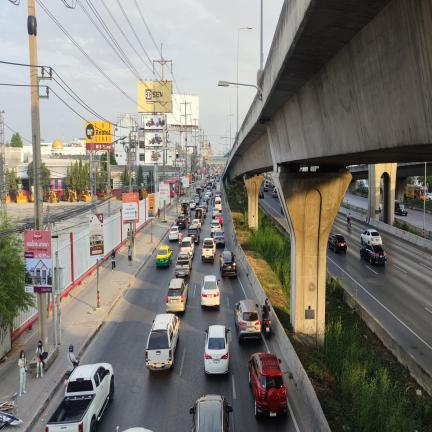car: (249, 353, 288, 418), (145, 313, 180, 370), (189, 394, 232, 432), (204, 325, 230, 374), (234, 299, 261, 344), (166, 279, 188, 312), (201, 275, 220, 307), (360, 244, 386, 265), (220, 251, 237, 277), (328, 234, 347, 253), (360, 229, 382, 244), (180, 237, 195, 259), (187, 224, 200, 244), (193, 207, 204, 229), (394, 201, 408, 216), (169, 226, 180, 242), (214, 230, 225, 246), (211, 219, 221, 236), (176, 215, 187, 229), (196, 205, 207, 218), (191, 219, 202, 230), (214, 197, 222, 212), (214, 213, 223, 226), (202, 198, 208, 213), (212, 207, 219, 219), (203, 196, 210, 208), (189, 201, 196, 210), (194, 195, 200, 205), (258, 191, 264, 199), (272, 190, 278, 198), (263, 184, 268, 192), (215, 191, 221, 197), (206, 185, 211, 191), (201, 184, 205, 191), (281, 206, 284, 215), (204, 215, 205, 217)
motorbike: (65, 356, 80, 386), (262, 316, 271, 339), (178, 237, 182, 246), (347, 220, 352, 227), (261, 307, 263, 311)
pickup: (46, 363, 114, 432), (175, 251, 192, 277), (201, 238, 216, 261), (198, 206, 206, 218), (203, 221, 203, 221), (196, 209, 196, 211)
taxi: (156, 245, 173, 267)
truck: (195, 208, 204, 224), (196, 186, 202, 198), (216, 182, 221, 191)
van: (214, 197, 221, 212)
